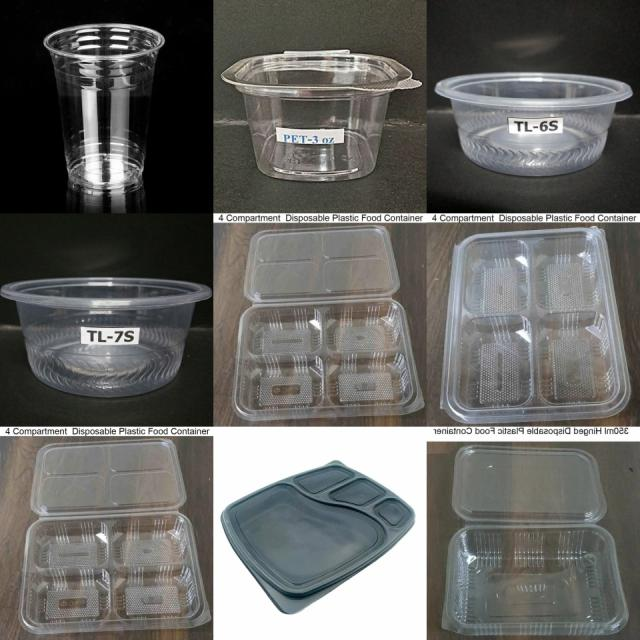Single-Use-Plastic: (19, 439, 211, 633), (440, 228, 630, 424), (232, 225, 422, 420), (442, 446, 629, 635), (221, 461, 414, 614), (221, 50, 421, 181), (1, 278, 211, 397), (44, 24, 165, 211), (435, 72, 632, 176)
